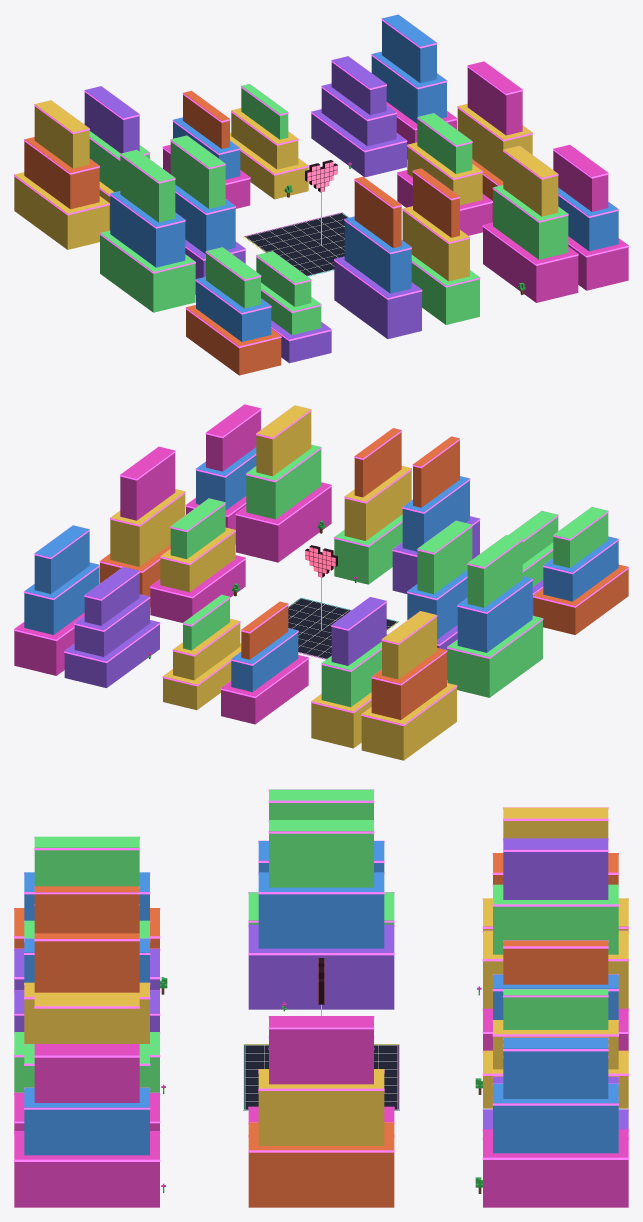
The picture shows the model from 3 angles, top to bottom: view 1: azimuth 30°, elevation 25°; view 2: azimuth 150°, elevation 25°; view 3: azimuth 270°, elevation 25°; orthographic projection. The views are drawn at different scales.
Parts seen in each view (by area): view 1: district_city_pixel.lod1; view 2: district_city_pixel.lod1; view 3: district_city_pixel.lod1.
Part boxes in pixels (x1,y1,x2,y2): district_city_pixel.lod1: (14,14,628,375); district_city_pixel.lod1: (14,404,628,760); district_city_pixel.lod1: (14,789,628,1207).
Bounding box in the file's own units: 97.1 × 29.96 × 97.1.
